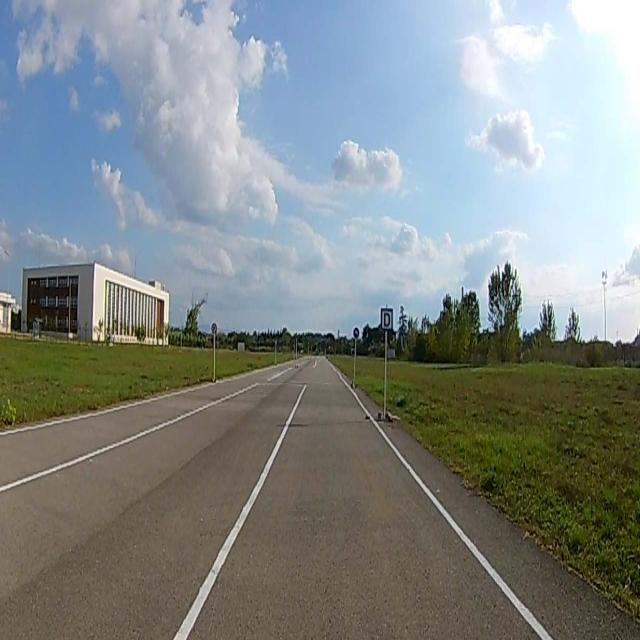durak: (381, 308, 394, 332)
